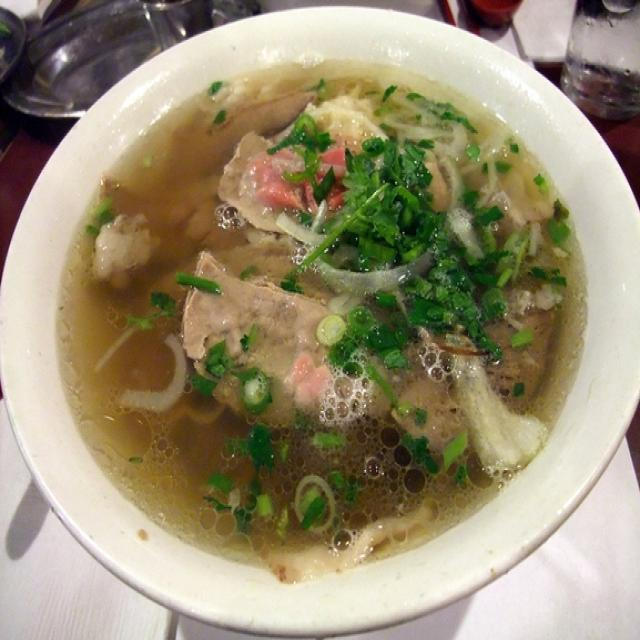面条主食: (10, 15, 623, 612)
